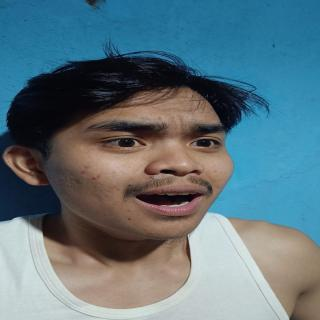Takut: (57, 84, 238, 243)
